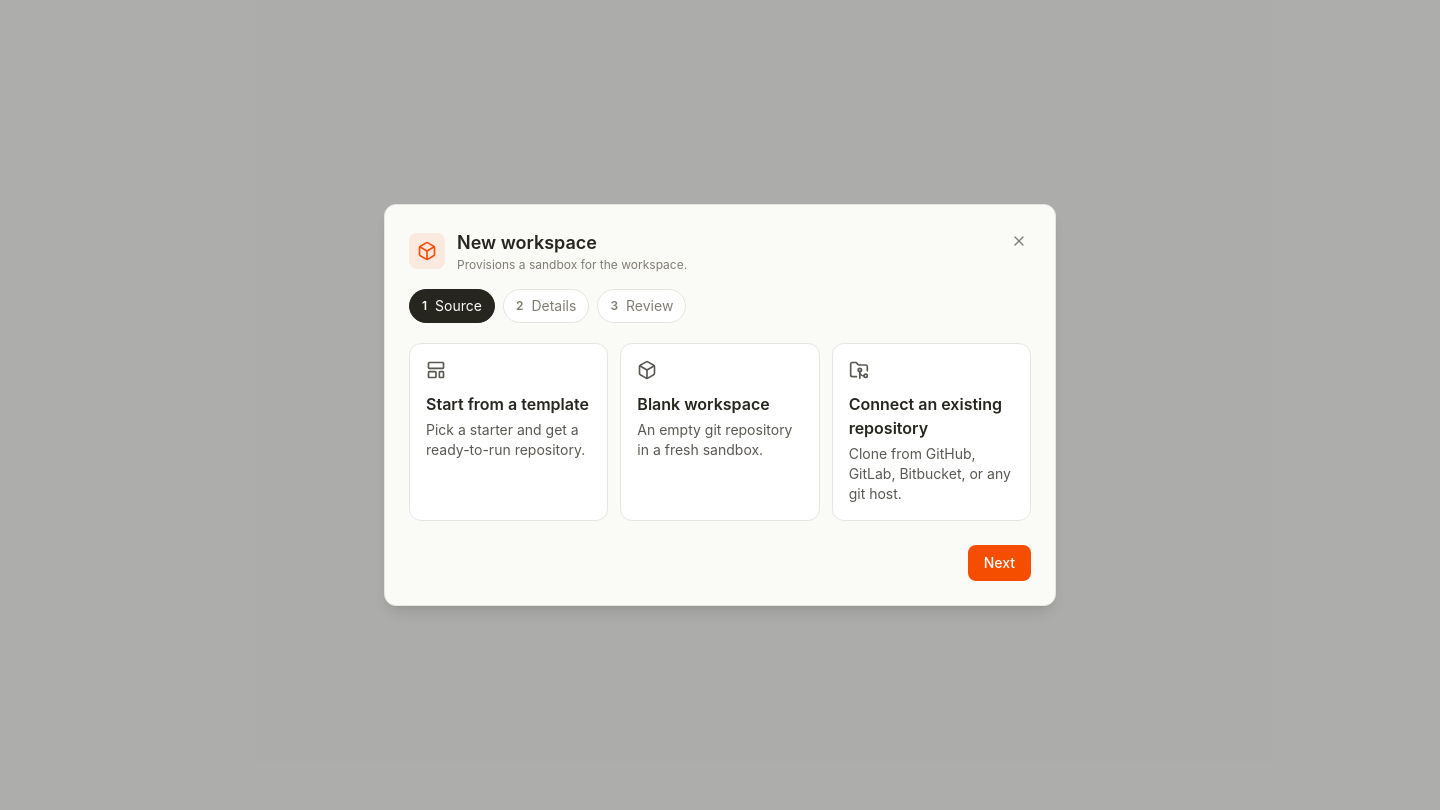
it: CreateWorkspaceWizard › runtime picker › checks again on request, picking up a daemon that came back
Click the radio button labelled "Blank workspace An empty git repository in a fresh sandbox.". click: (720,432)
box: x1=620 y1=343 x2=820 y2=521
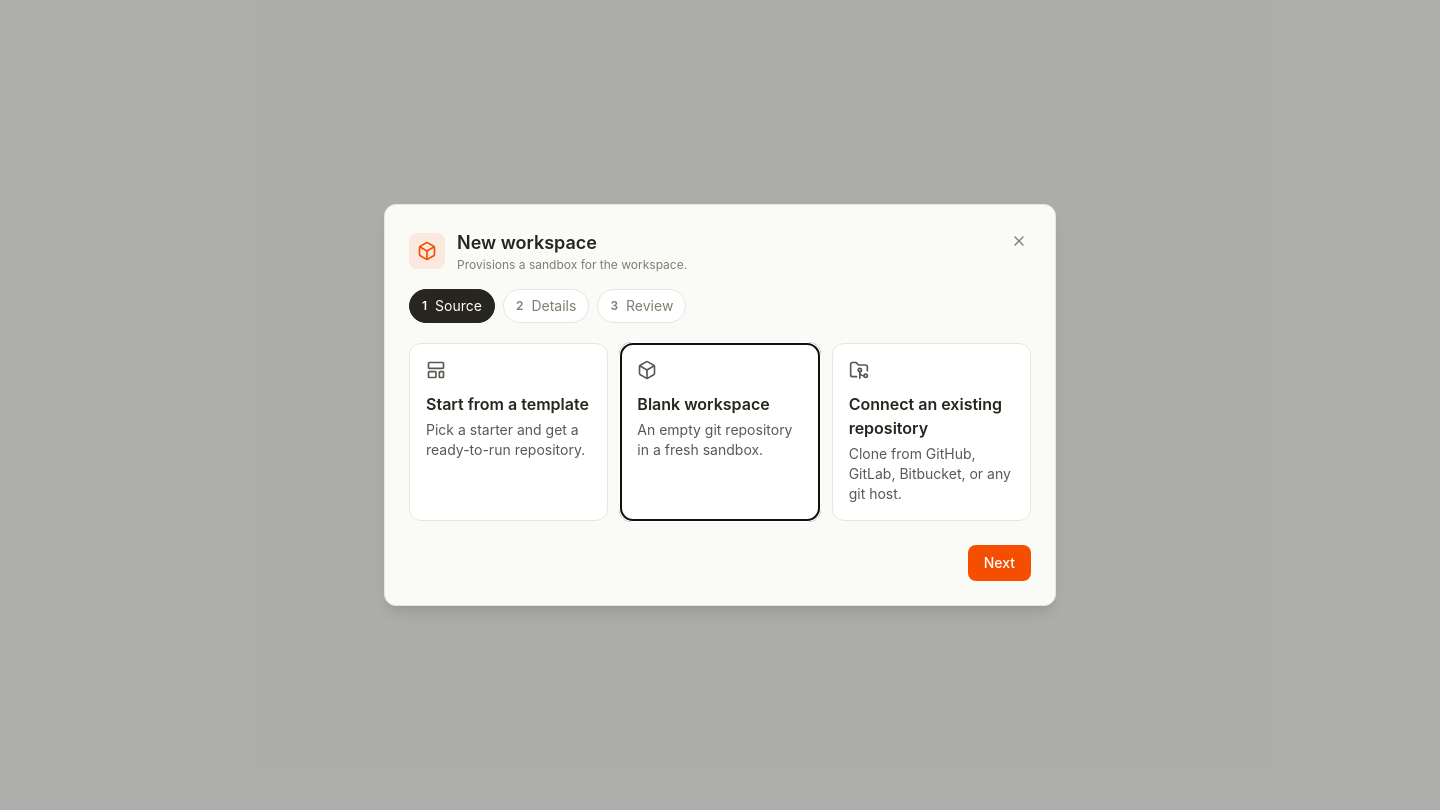
Click the button "Next". click: (999,563)
box: x1=968 y1=545 x2=1031 y2=581
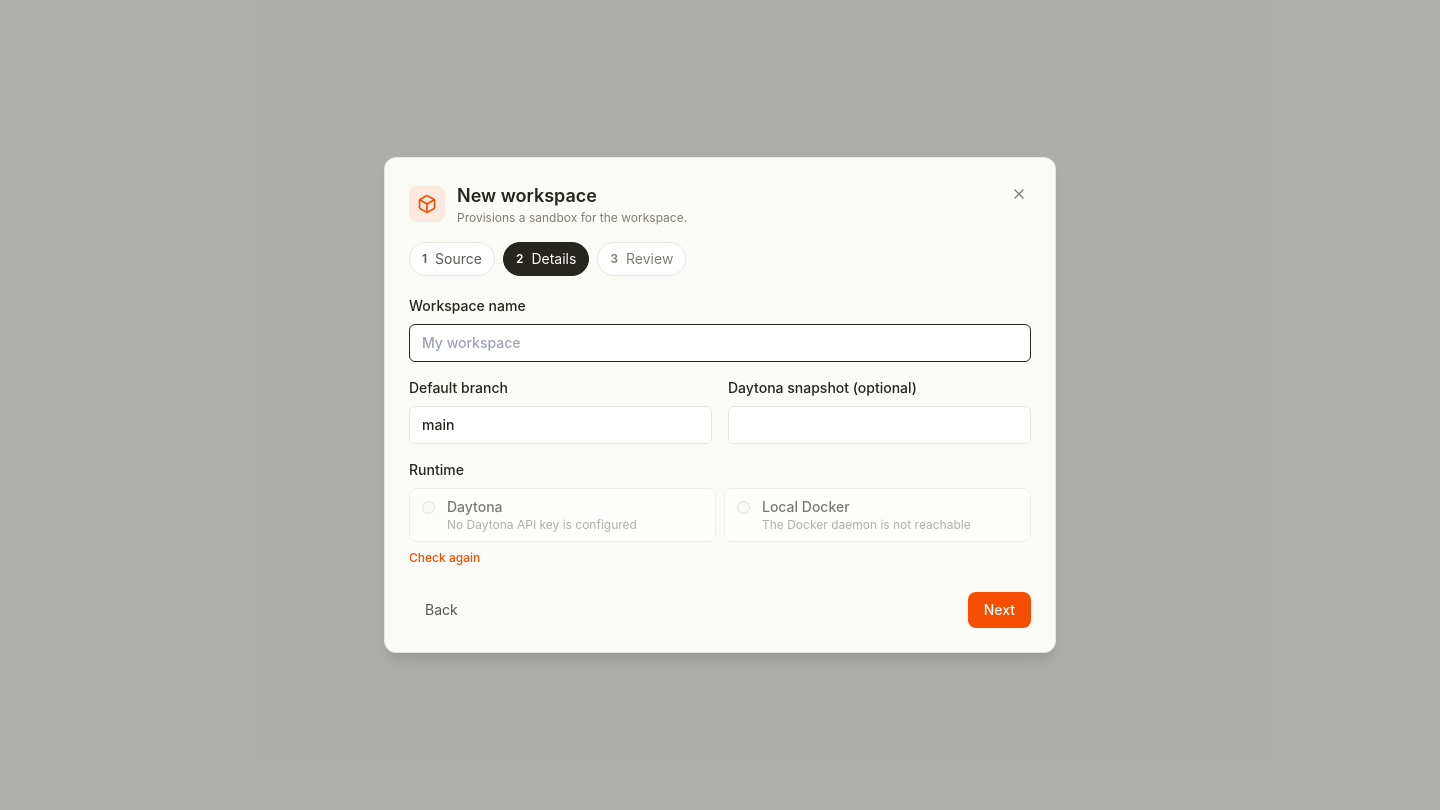
Type "Scratch" into the field labelled "Workspace name". click: (720,343)
box: x1=409 y1=324 x2=1031 y2=362
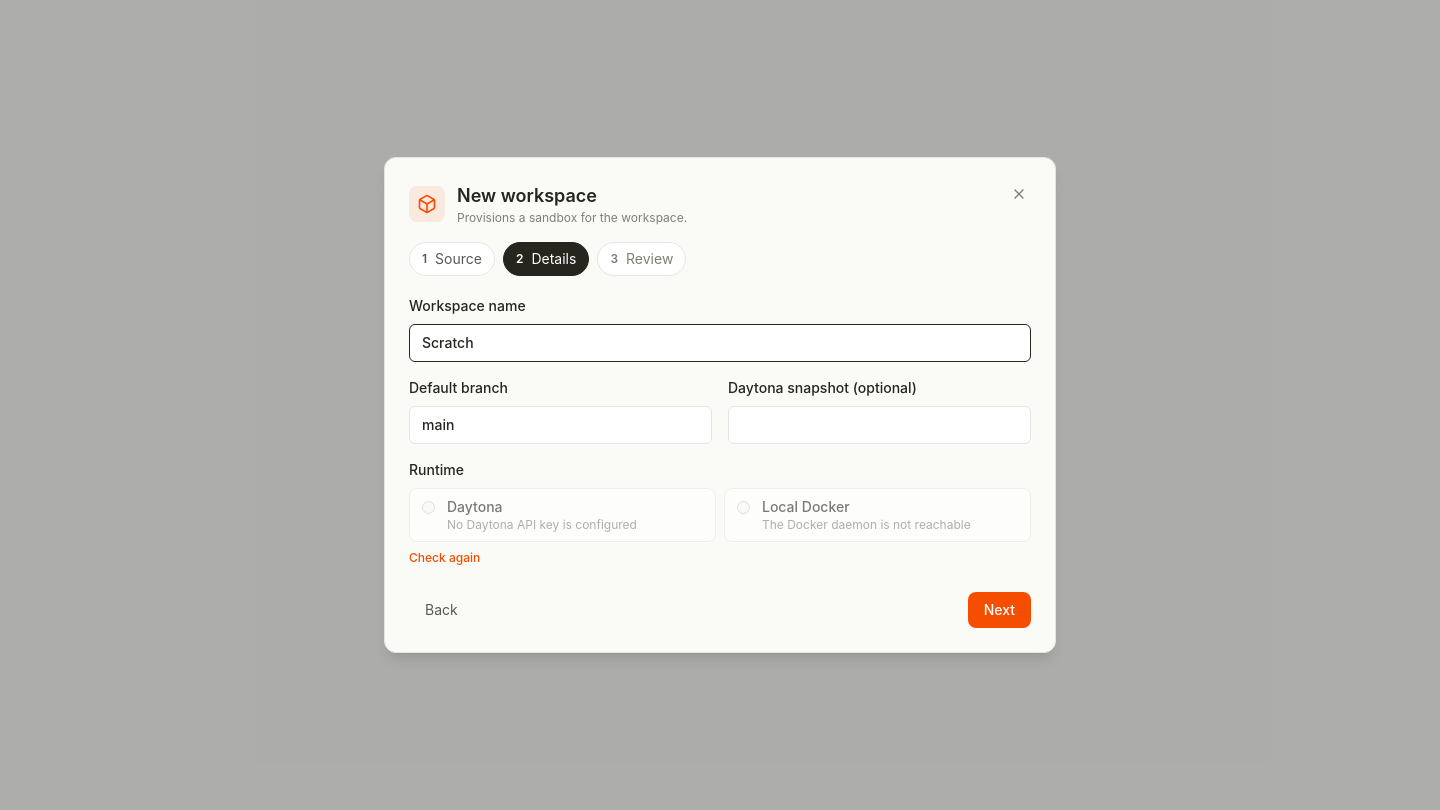
Expected: the text "The Docker daemon is not reachable" is shown, x1=762 y1=517 x2=971 y2=533
Click the button "Check again". click: (445,558)
box: x1=409 y1=550 x2=480 y2=566
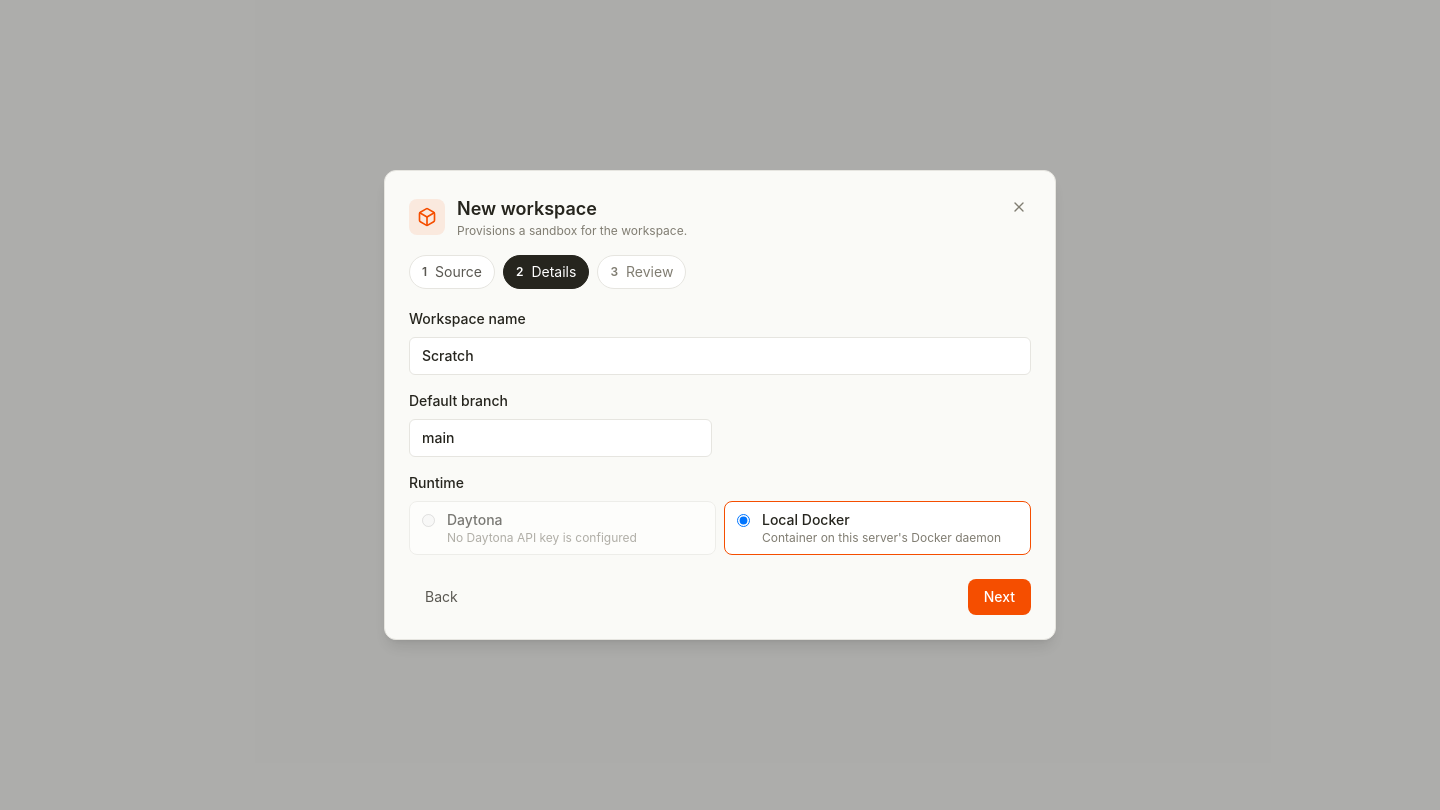
Expected: the radio button labelled "Local Docker Container on this server's Docker daemon" is checked, x1=737 y1=514 x2=750 y2=527
Expected: the button "Check again" is gone
